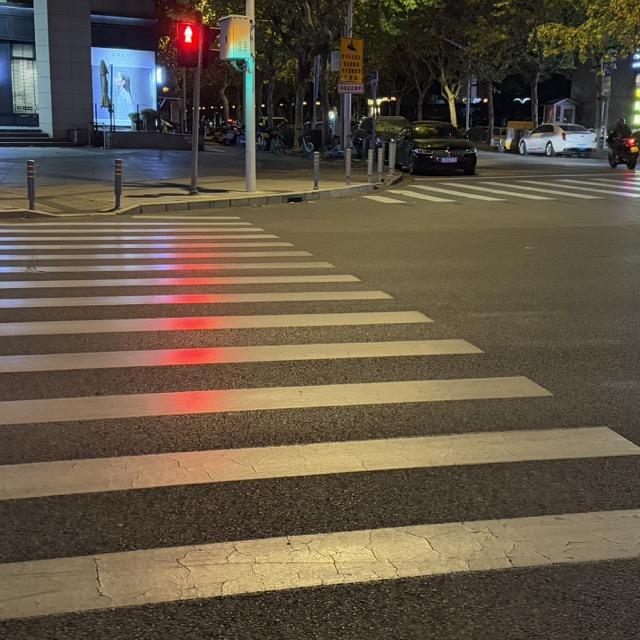curb: (120, 183, 387, 214), (0, 209, 106, 218)
